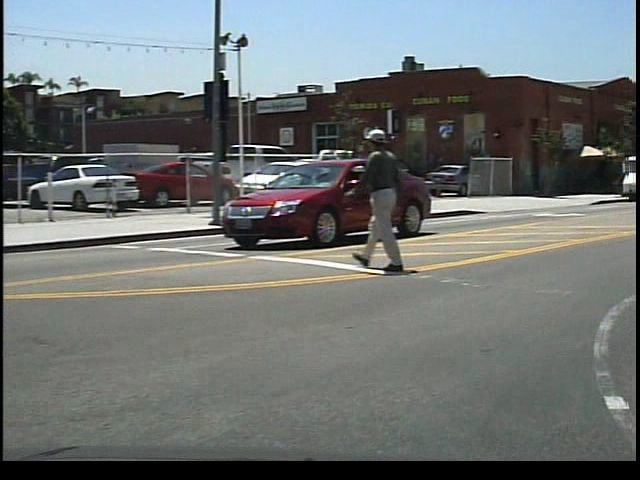person: (358, 123, 430, 282)
